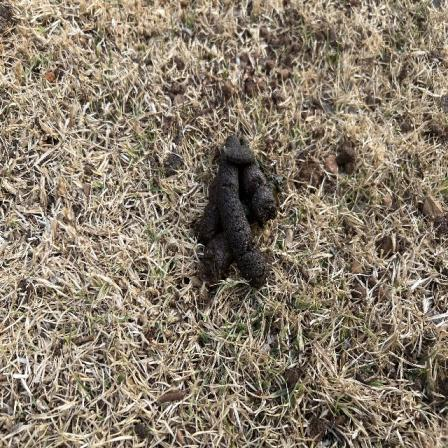dog-poop: (190, 131, 284, 287)
